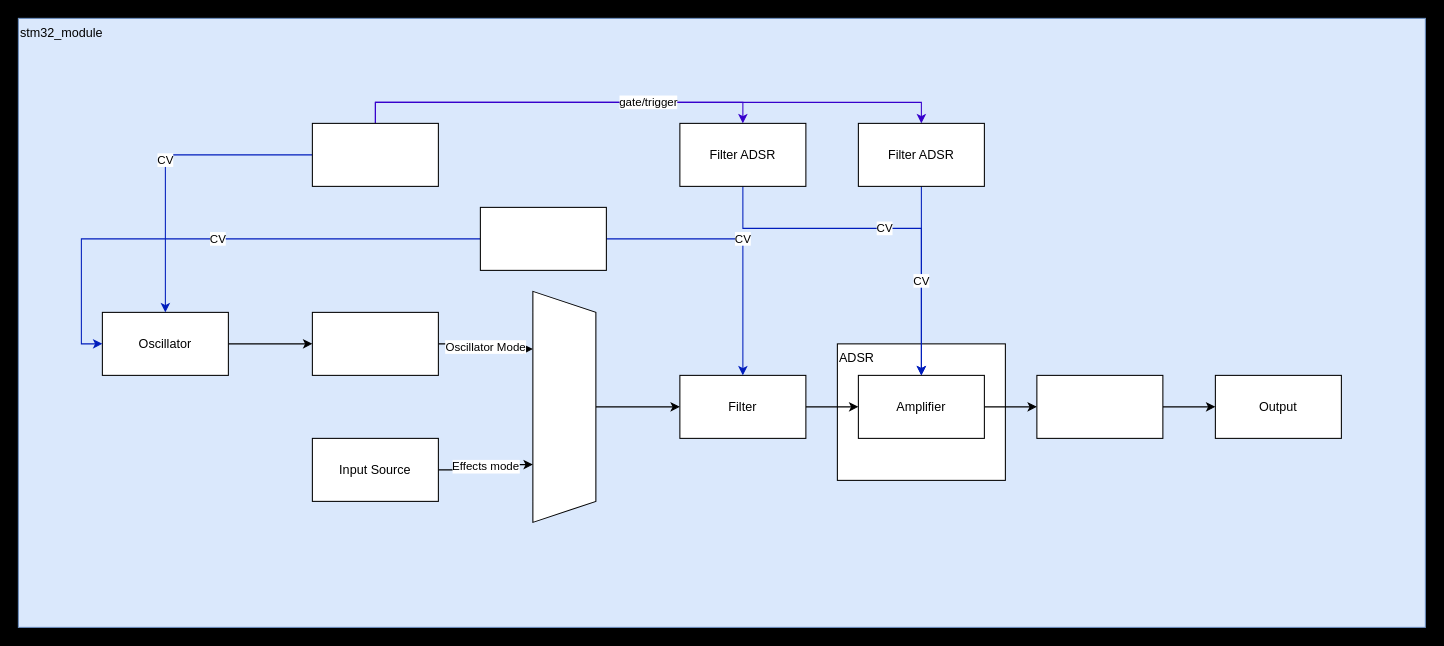
The diagram is 1444 pixels wide and 646 high, and some of its shapes have lost their labels. The shapes that lost their labels are listed below. From the top down, each one's centre as x and y in pixels, then its label:
At point (374, 154): "Keyboard".
At point (542, 238): "LFO".
At point (374, 343): "Mixer".
At point (564, 406): "Mode Select".
At point (1099, 406): "Effects".
